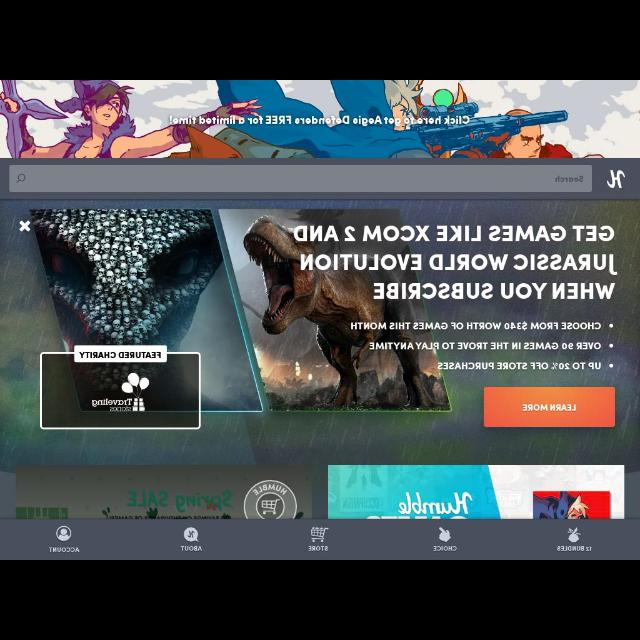backgroundimage: (1, 200, 639, 518), (1, 81, 639, 157)
icon: (310, 526, 328, 542), (184, 526, 200, 544), (56, 524, 72, 540), (566, 528, 582, 542), (438, 526, 452, 542), (20, 220, 30, 232), (16, 174, 26, 184), (608, 362, 614, 368), (610, 322, 614, 328), (609, 342, 613, 348)
image: (607, 169, 625, 189)
input: (9, 165, 591, 191)
text: (293, 225, 617, 298), (168, 115, 470, 125), (351, 321, 601, 331), (370, 342, 602, 352), (438, 362, 600, 370), (522, 402, 578, 412), (554, 175, 584, 182), (558, 546, 592, 552), (49, 546, 79, 552), (434, 546, 456, 552), (308, 546, 329, 552), (182, 545, 202, 551)
textbutton: (485, 388, 615, 427)
toolbar: (1, 158, 639, 200)
